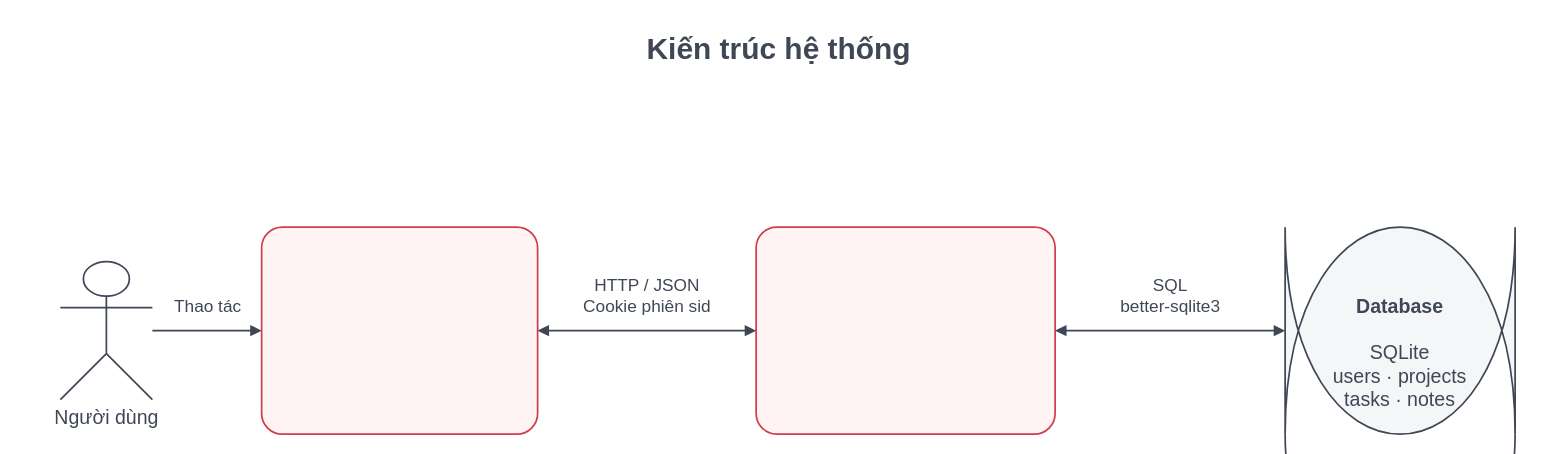
Some shapes in this 1557 by 454 pixel diagram are drawn without their labels. Each missing label, with the centre of its shape:
"Backend Express · REST API Xác thực và nghiệp vụ Phiên đăng nhập: MemoryStore" goes at (x=905, y=330).
"Frontend React Giao diện web" goes at (x=399, y=330).
